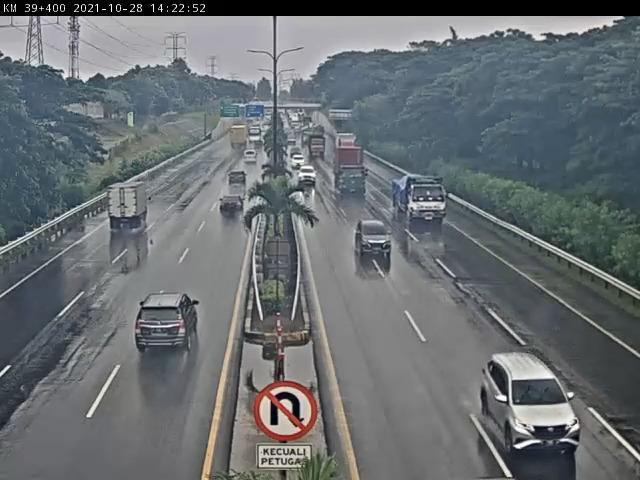truck: (395, 174, 452, 224), (105, 181, 150, 234), (331, 148, 369, 199)
